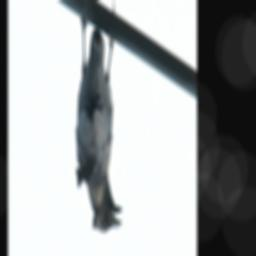Crow: (76, 0, 123, 240)
